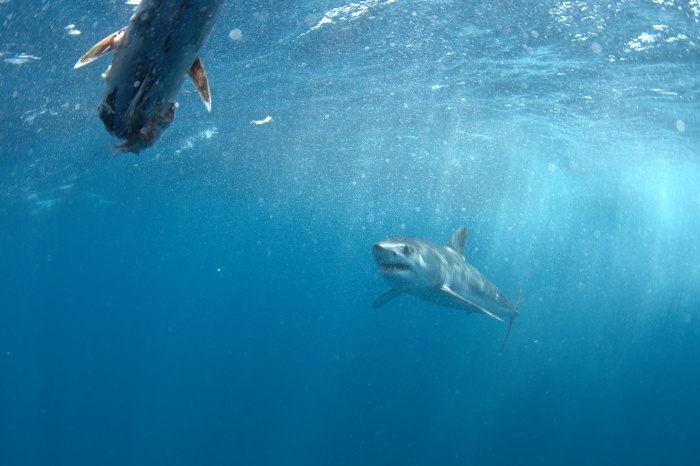Mako: (353, 213, 531, 358)
